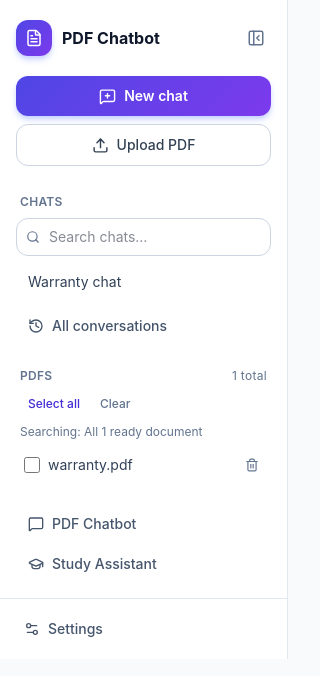
it: Sidebar conversation search › searches titles and messages on the server after a short pause
The image size is (320, 676).
Type "blade" into the search field named "Search conversations".
click(144, 237); type("blade")  # box [16,218,271,256]
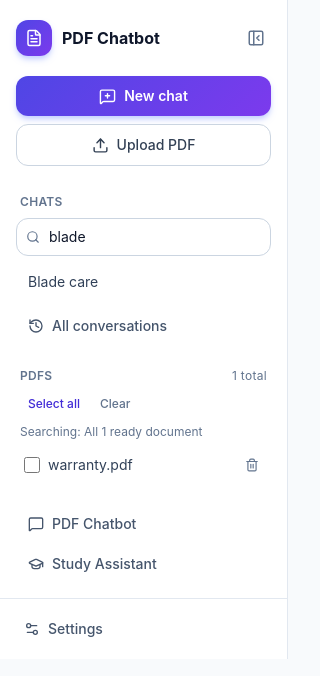
Now the link "Blade care" is shown, box [28,273,98,290]
